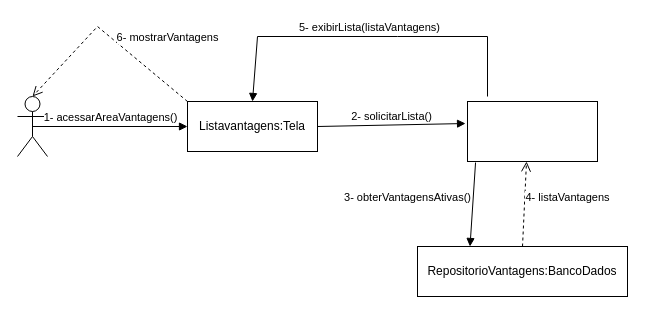
This 645x314 diagram has some shape labels left out. The shapes that lost their labels are listed below. From the top down, each one's centre as x and y in pixels, then its label:
At (32,126): "Aluno".
At (532,131): "Sistema:Controlador".
